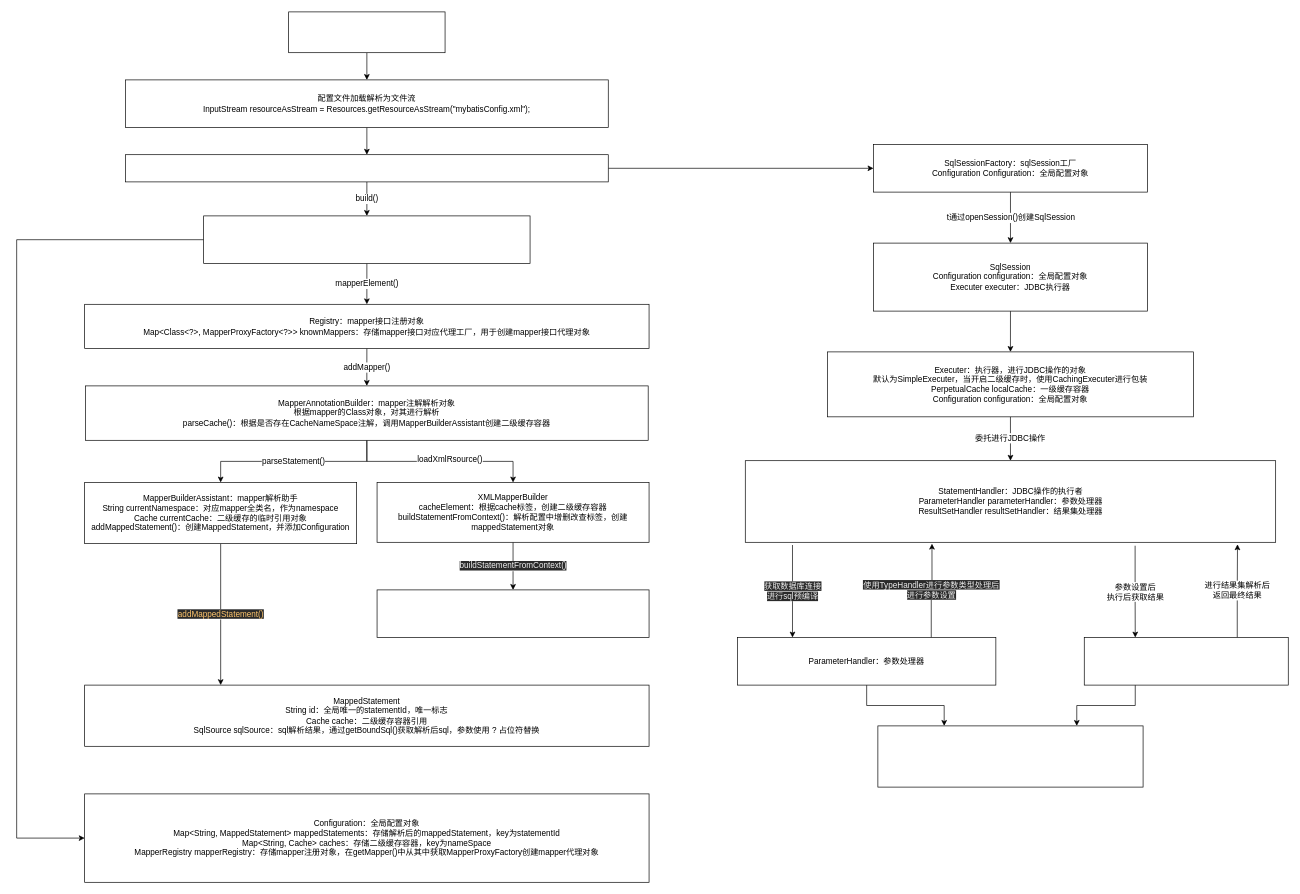
The diagram is 1300 pixels wide and 894 high, and some of its shapes have lost their labels. Here are the shapes that lost their labels. From the top down, the centre of each, then its label:
At point (366, 32): "配置文件 主配置文件：mybatisConfig.xml mapper配置文件".
At point (366, 168): "SqlSessionFactoryBuilder：通过build()解析配置文件，得到Configuration对象，创建SqlSessionFactory".
At point (366, 239): "XMLConfigbuilder 1. 默认初始化Configuration 2. 解析主配置文件，设置Configuration属性".
At point (512, 613): "XMLStatementBuilder 解析每个select | update | delete | insert 标签，创建mappedStatement".
At point (1186, 661): "ResultSetHandler：结果集处理器".
At point (1010, 756): "TypeHandler：类型处理器 处理JAVA类型与数据库字段类型映射".
